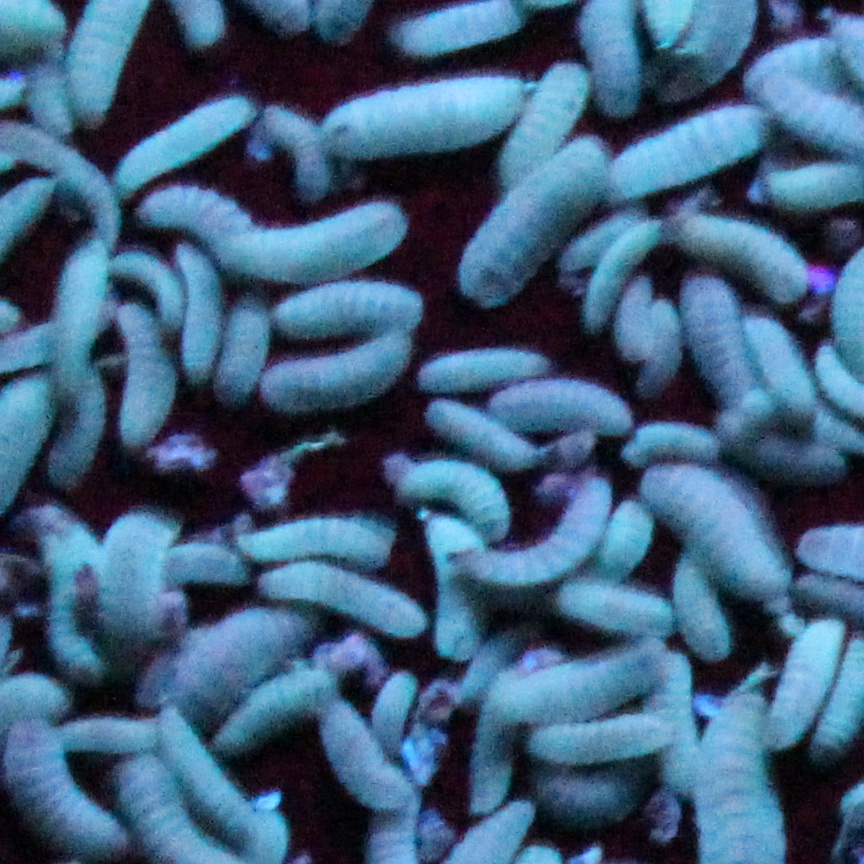larve: (451, 141, 597, 303), (640, 467, 789, 603), (324, 73, 525, 169), (21, 512, 132, 683), (450, 480, 608, 580), (3, 726, 121, 851), (607, 103, 762, 197), (220, 205, 401, 284), (173, 609, 302, 718), (160, 724, 271, 847), (673, 297, 778, 420), (494, 67, 594, 193), (502, 637, 658, 717), (267, 325, 417, 408), (260, 572, 433, 638), (672, 211, 797, 297), (117, 104, 247, 186), (419, 517, 490, 659), (580, 208, 659, 335), (217, 668, 345, 745), (109, 300, 176, 446), (769, 618, 839, 740), (519, 765, 663, 822), (106, 513, 171, 638), (395, 463, 512, 532), (482, 380, 639, 430), (417, 400, 537, 465), (238, 516, 392, 566), (469, 677, 526, 812), (739, 310, 806, 423), (328, 712, 406, 802), (163, 297, 232, 390), (44, 371, 98, 489), (132, 194, 258, 243), (556, 581, 676, 630), (659, 655, 700, 797), (273, 295, 422, 333), (675, 555, 727, 661), (268, 110, 327, 203), (226, 299, 280, 400), (739, 35, 844, 83), (619, 419, 715, 469), (533, 721, 669, 756), (52, 713, 159, 753), (422, 356, 556, 386), (601, 497, 649, 580), (164, 543, 245, 584), (375, 675, 419, 750), (647, 293, 669, 412)
